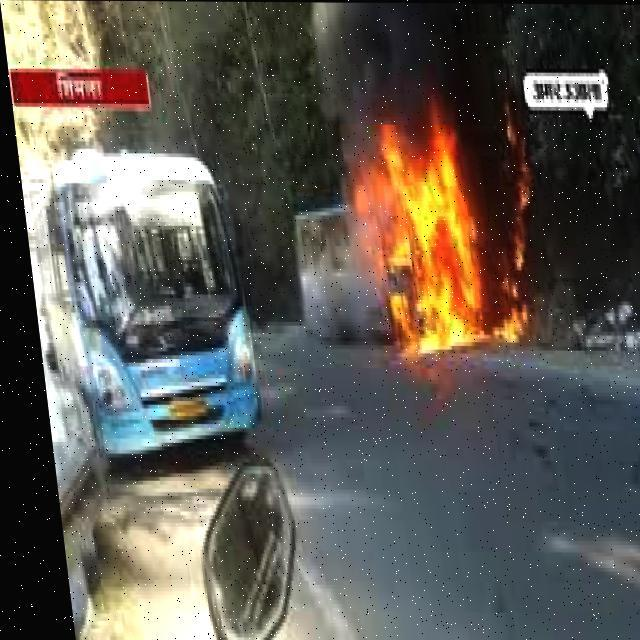Fire: (332, 86, 544, 377)
